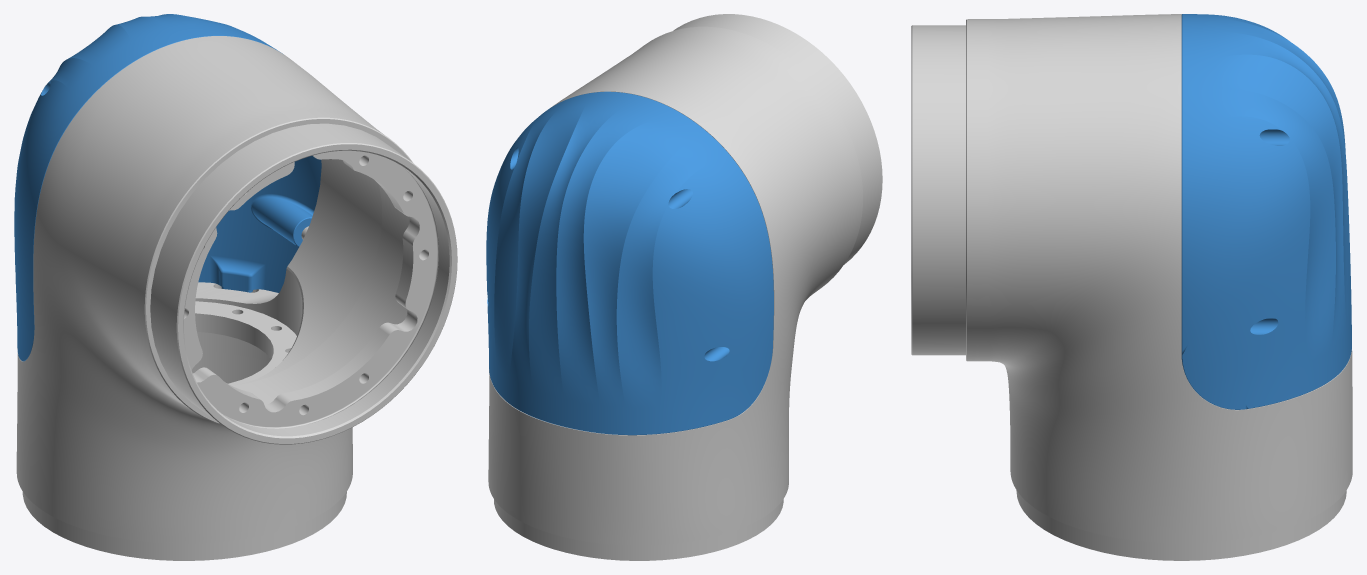
3 renders of one model, left to right at view 1: azimuth 30°, elevation 25°; view 2: azimuth 150°, elevation 25°; view 3: azimuth 270°, elevation 25°, orthographic. The views are drawn at different scales.
Visible parts, largest first — view 1: 2; view 2: 2; view 3: 2.
Boxes of the visible parts, x1,y1,x2,y2 form: 2: (14, 14, 457, 560); 2: (486, 14, 882, 560); 2: (911, 14, 1352, 560).
Bounding box in the file's own units: 104 × 148 × 129.
